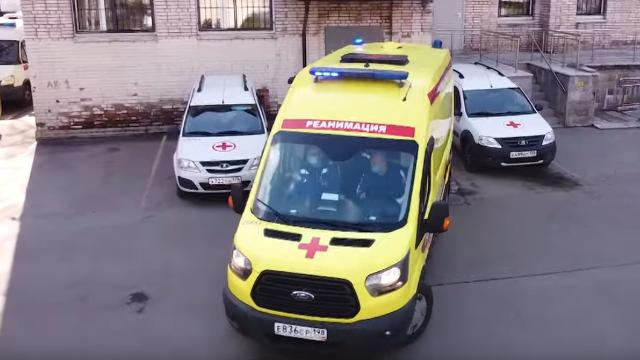ambulance: (175, 71, 271, 201), (455, 63, 557, 176)
intensive care unit: (224, 41, 453, 352)
